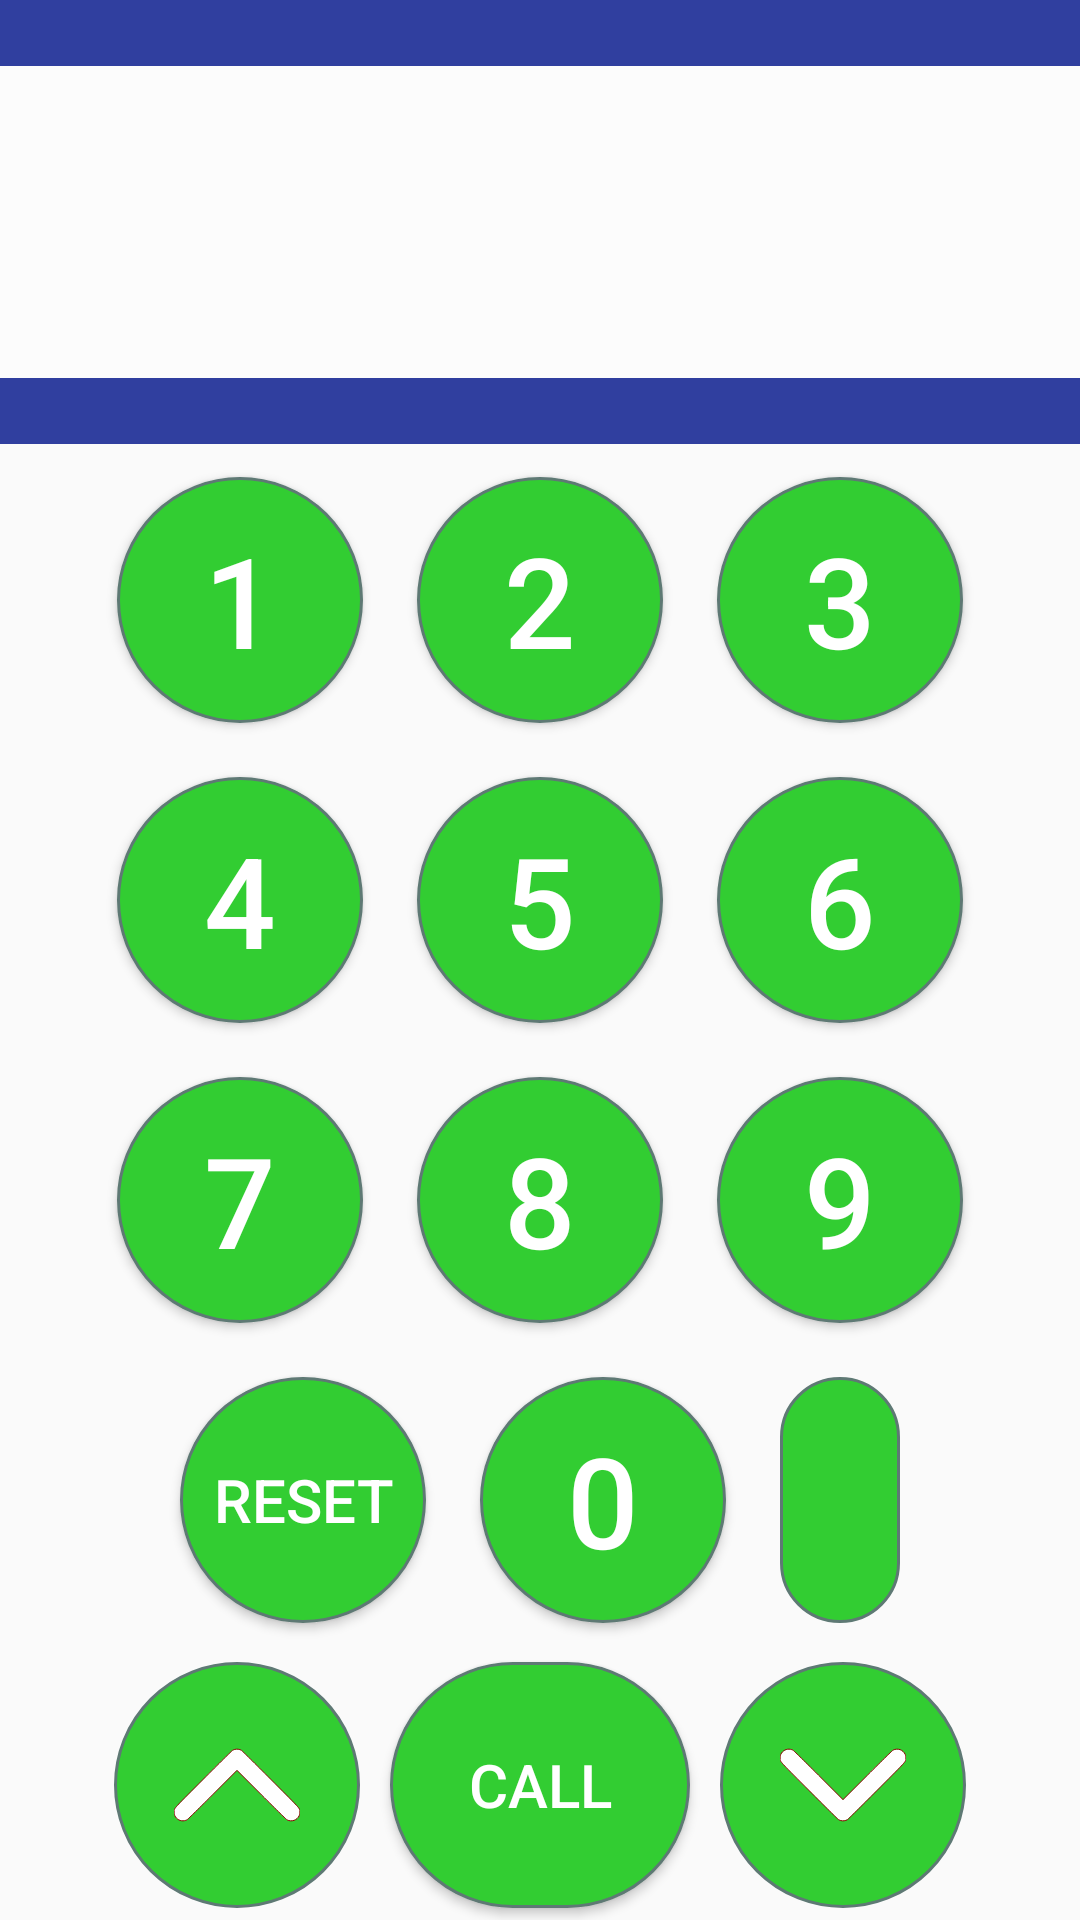

Where icons sit on this 1080w x 1920h app screen, as (x1, y1, x2, y2):
navigate down arrow: (720, 1662, 966, 1908)
navigate up arrow: (114, 1662, 360, 1908)
